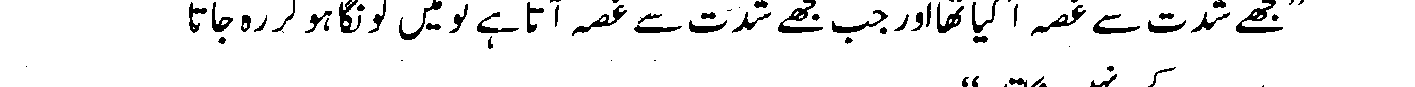bay_shosha: (827, 17, 869, 45)
